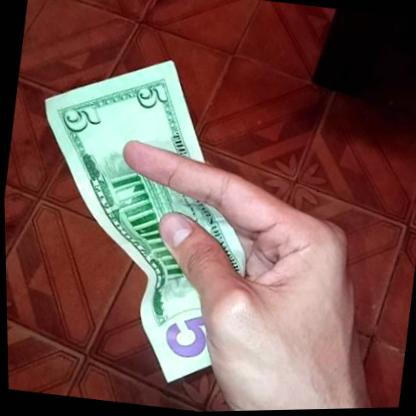dollar_back: (3, 40, 279, 400)
